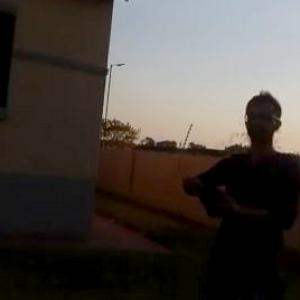follow: (176, 84, 299, 299)
